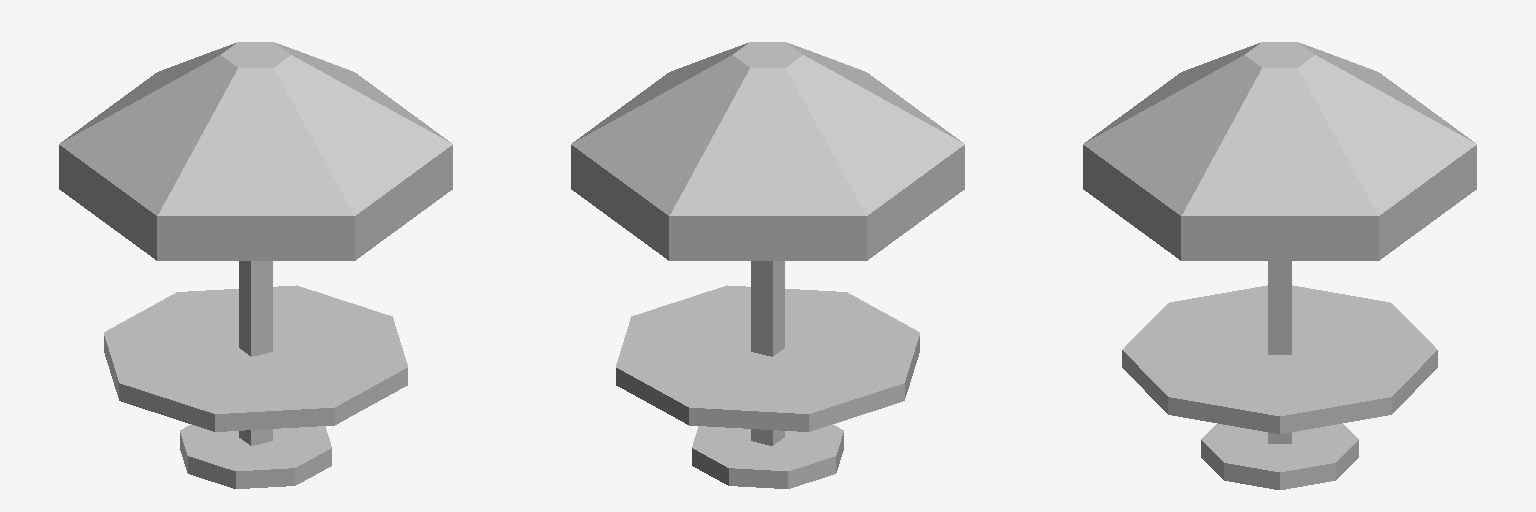
Rendered from detail-parasol-a.obj.
3 renders of one model, left to right at view 1: azimuth 30°, elevation 25°; view 2: azimuth 150°, elevation 25°; view 3: azimuth 270°, elevation 25°, orthographic.
Visible parts, largest first — view 1: detail-parasol-a; view 2: detail-parasol-a; view 3: detail-parasol-a.
Boxes of the visible parts, box(x1,y1,x2,y2) form: detail-parasol-a: box(59, 42, 452, 488); detail-parasol-a: box(571, 42, 964, 488); detail-parasol-a: box(1083, 42, 1476, 489).
Bounding box in the file's own units: 0.3464 × 0.45 × 0.4.